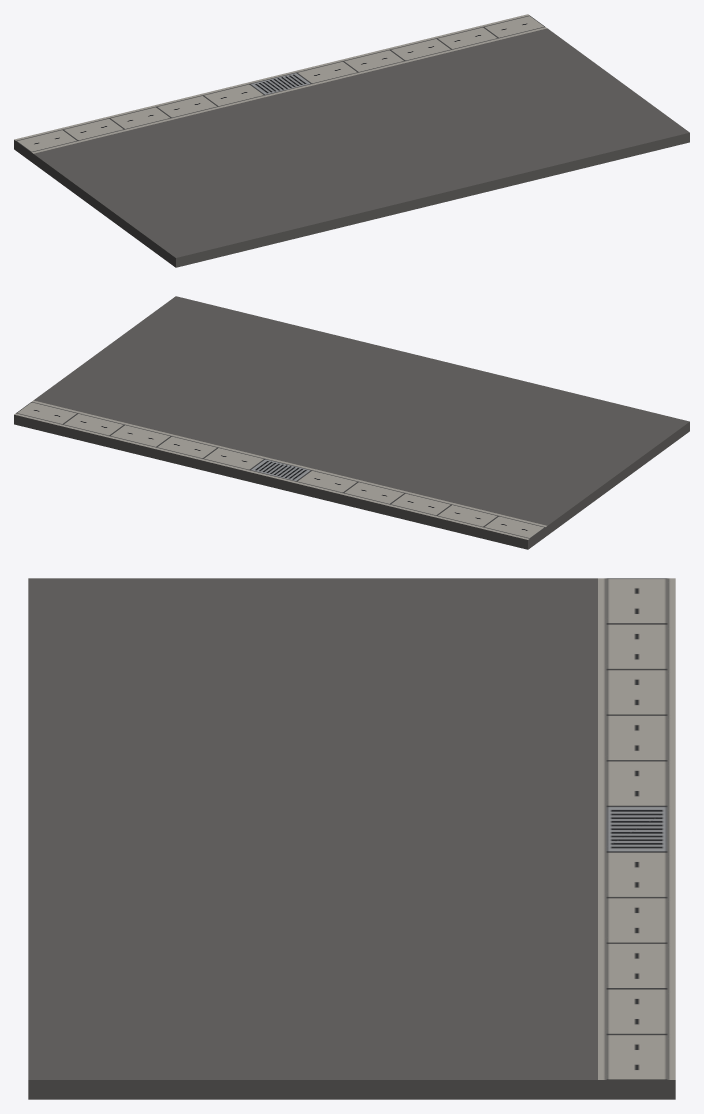
Rendered from SM_Ground_Alley_300x550_01.fbx.
The picture shows the model from 3 angles, top to bottom: view 1: azimuth 30°, elevation 25°; view 2: azimuth 150°, elevation 25°; view 3: azimuth 270°, elevation 25°; orthographic projection. The views are drawn at different scales.
Visible parts, largest first — view 1: SM_Ground_Alley_300x550_01; view 2: SM_Ground_Alley_300x550_01; view 3: SM_Ground_Alley_300x550_01.
Boxes of the visible parts, box(x1,y1,x2,y2) form: SM_Ground_Alley_300x550_01: box(14, 14, 689, 267); SM_Ground_Alley_300x550_01: box(14, 296, 689, 549); SM_Ground_Alley_300x550_01: box(28, 578, 675, 1099).
Bounding box in the file's own units: 5.5 × 0.1 × 3.
Materials: 1 (1 with a texture image).
